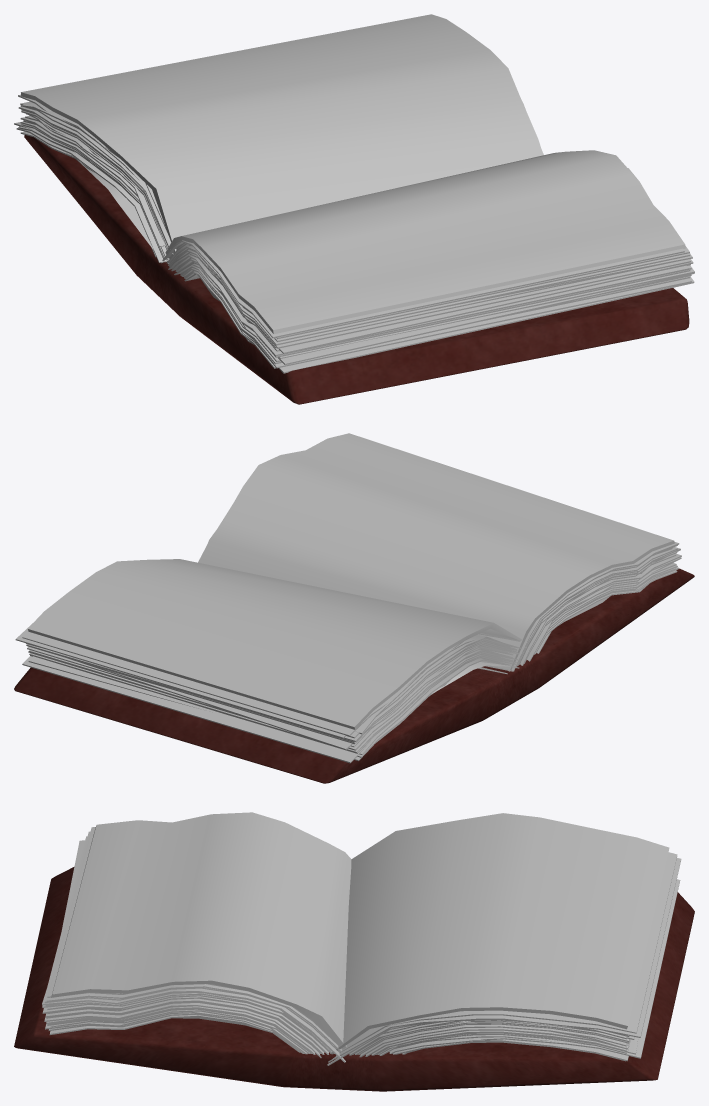
Rendered from livro aberto vermelho.fbx.
3 renders of one model, top to bottom at view 1: azimuth 30°, elevation 25°; view 2: azimuth 150°, elevation 25°; view 3: azimuth 270°, elevation 25°, orthographic. The views are drawn at different scales.
Parts seen in each view (by area): view 1: livros aberto_LOD0; view 2: livros aberto_LOD0; view 3: livros aberto_LOD0.
Boxes of the visible parts, x1,y1,x2,y2 form: livros aberto_LOD0: (14,14,694,404); livros aberto_LOD0: (14,433,694,783); livros aberto_LOD0: (14,812,694,1091).
Size of what is drawn, in the model's own units: 43.16 by 10.56 by 60.1.
Materials: 1 (1 with a texture image).
